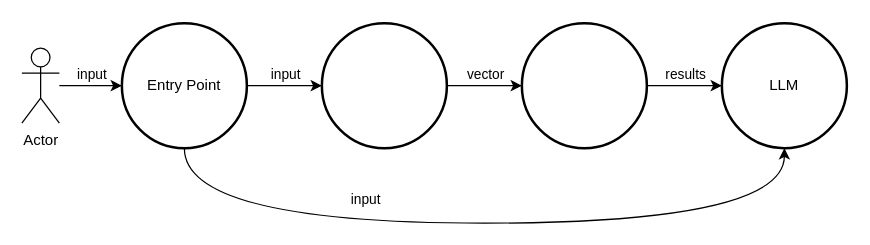
The diagram is 870 pixels wide and 245 high, and some of its shapes have lost their labels. The box of each missing label's shape, as (x1, y1, x2, y2) in pixels:
Embedding Generation: (320, 21, 448, 149)
Vector Search: (520, 21, 648, 149)
